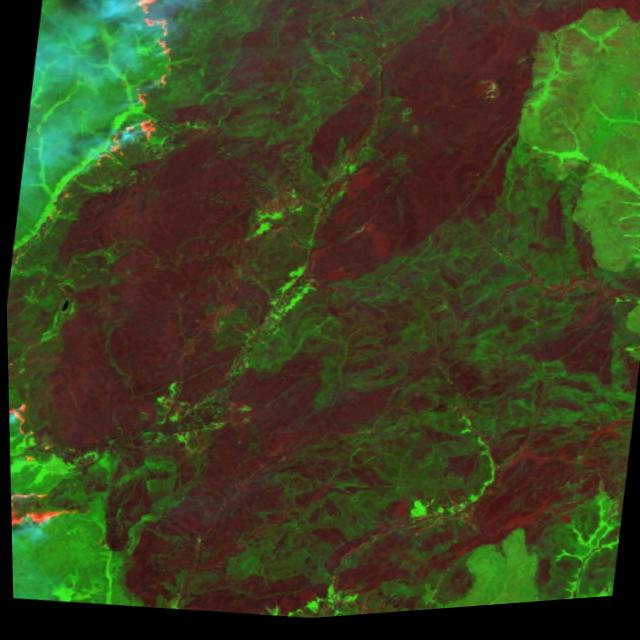fire: (88, 0, 267, 193), (7, 387, 84, 550)
